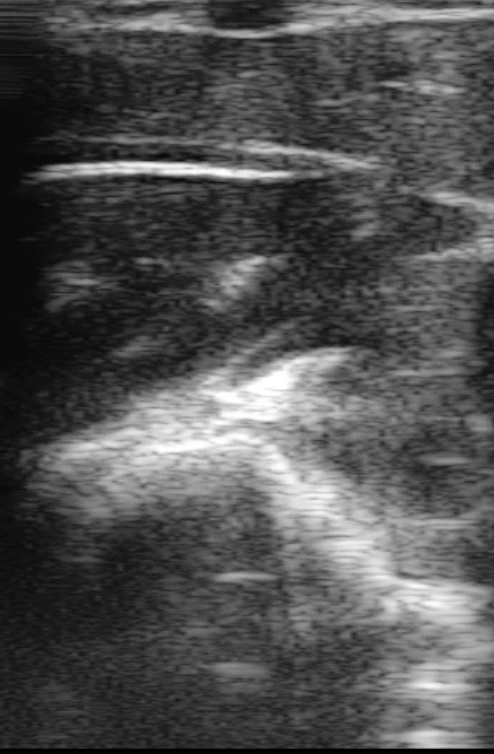veins_detect: (201, 2, 305, 42)
veins_seg: (205, 1, 291, 29)
